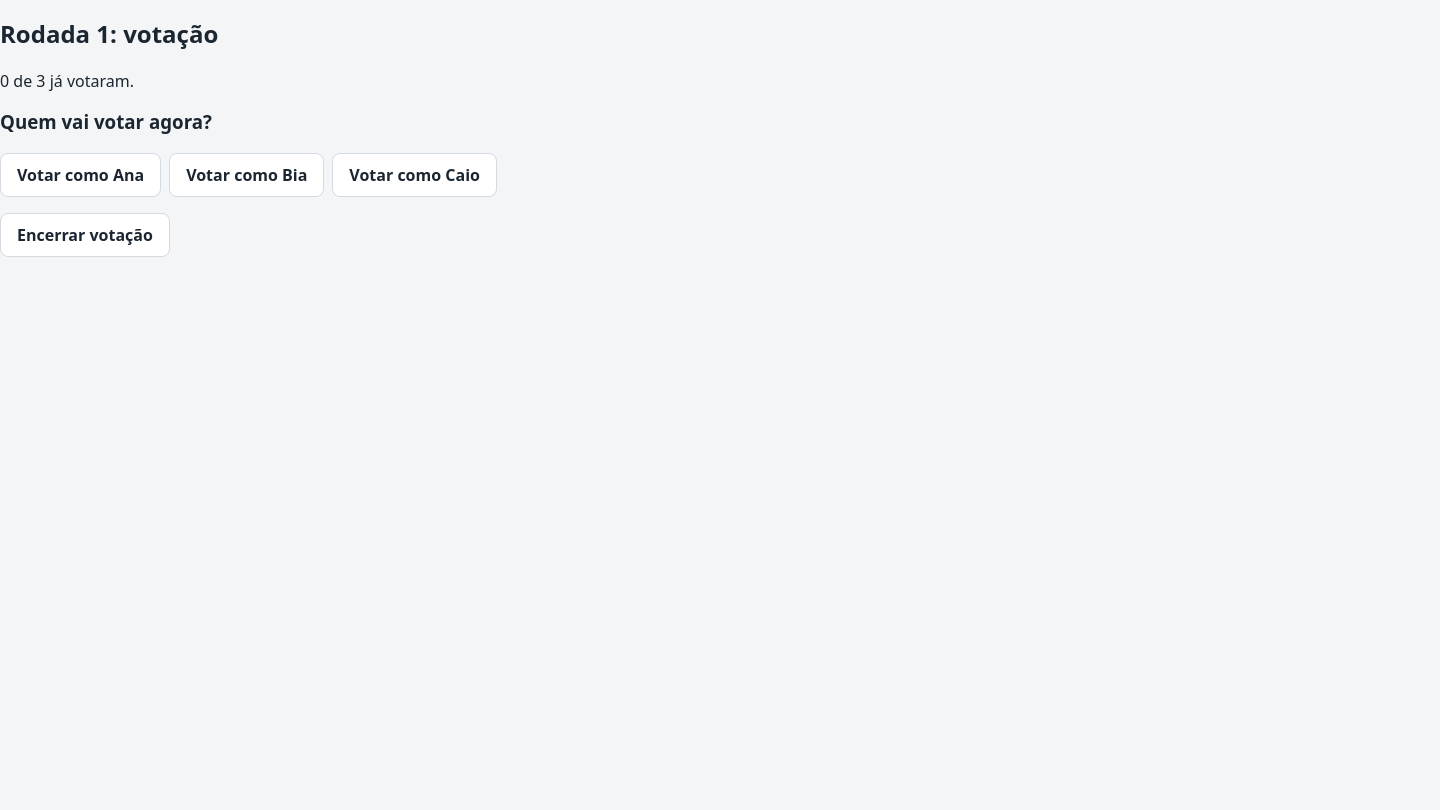
Scenario: VotingStep › avisa que não dá para encerrar sem nenhum voto (R10)
Click the button "Encerrar votação".
click(85, 234)  # box [0, 212, 170, 256]
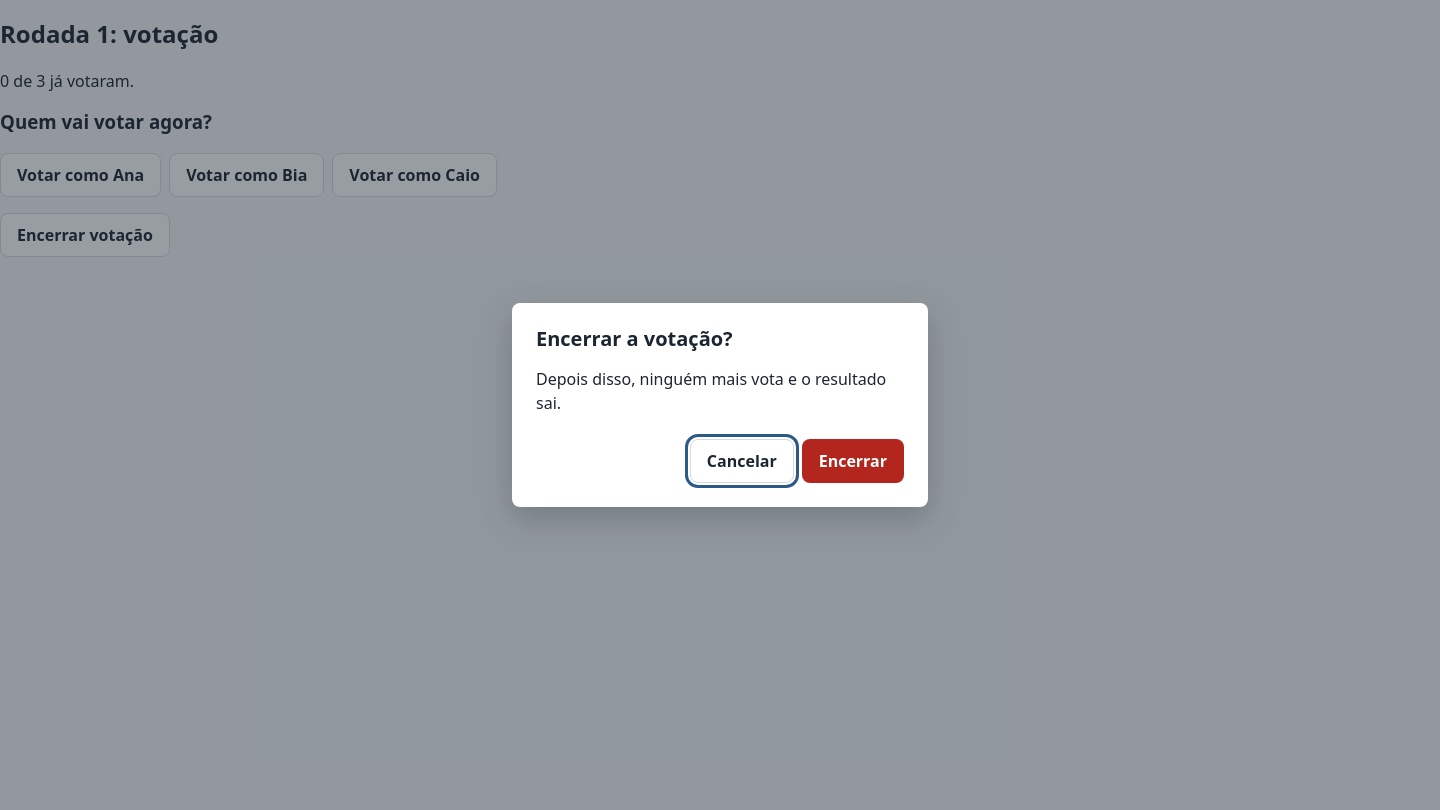
Click the button "Encerrar".
click(853, 461)  # box [802, 439, 904, 483]
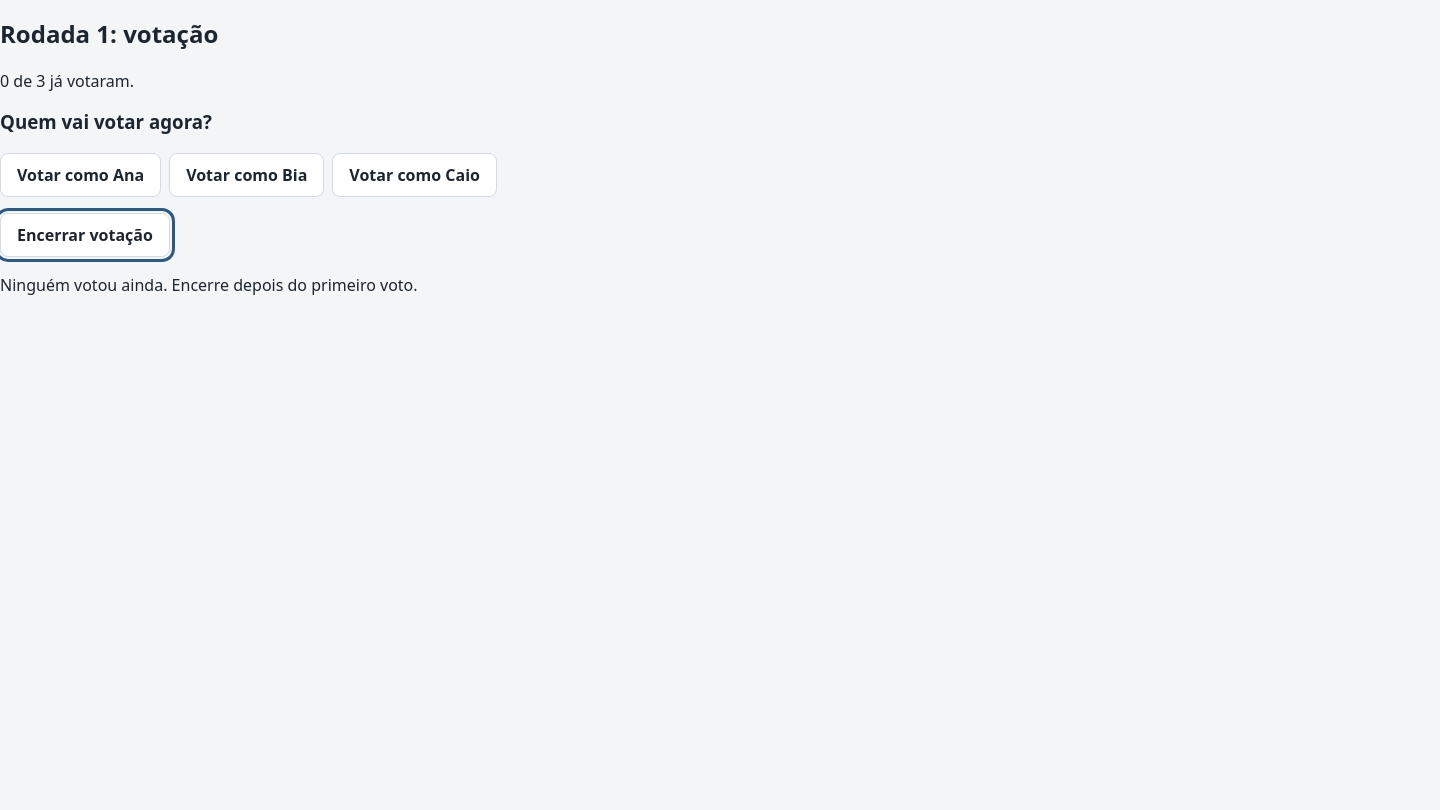
Check: the message shows "Ninguém votou ainda", box [0, 274, 418, 296]
